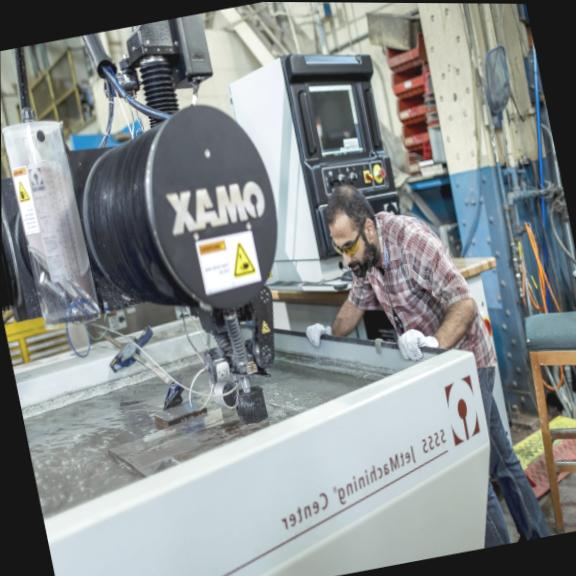no_safety_vest: (359, 191, 477, 363)
